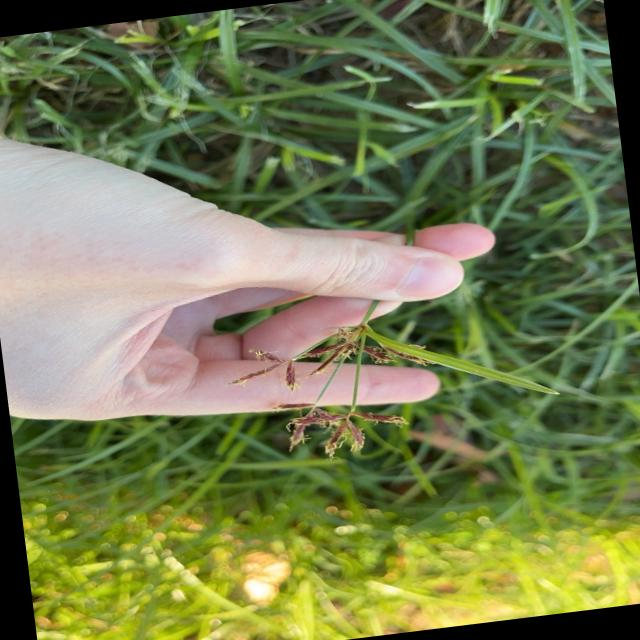cyperus: (208, 281, 510, 480)
